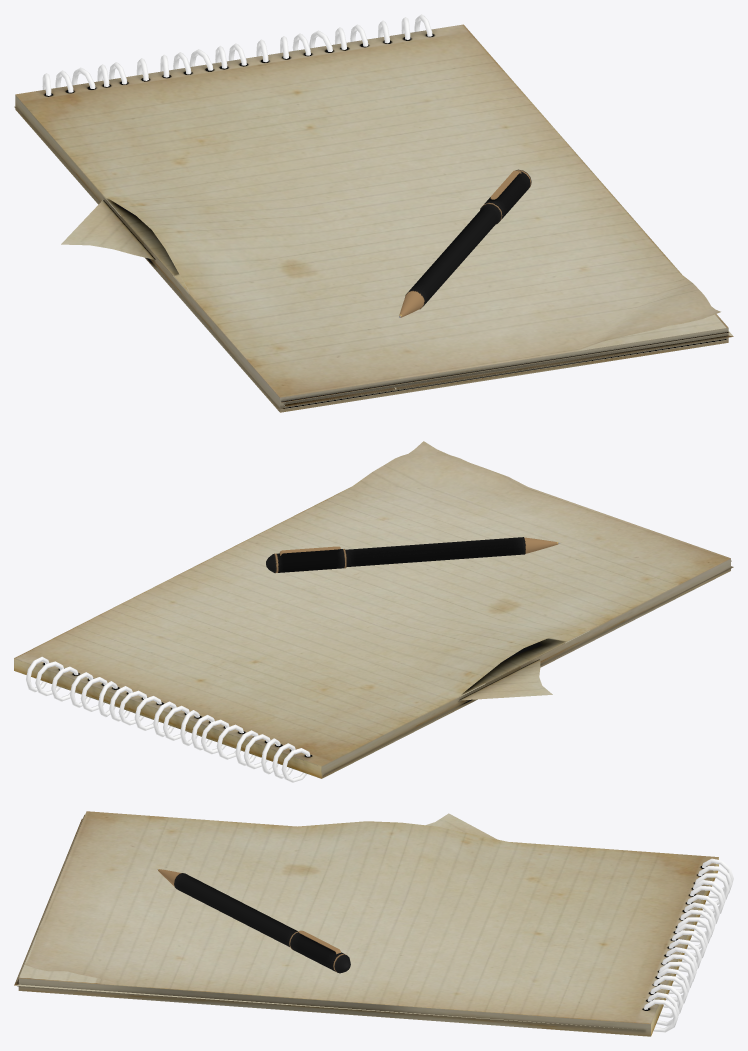
The model's file is pen.glb.
The picture shows the model from 3 angles, top to bottom: view 1: azimuth 30°, elevation 25°; view 2: azimuth 150°, elevation 25°; view 3: azimuth 270°, elevation 25°; orthographic projection. The views are drawn at different scales.
Parts seen in each view (by area): view 1: NotePad, Pen; view 2: NotePad, Pen; view 3: NotePad, Pen.
Boxes of the visible parts, x1,y1,x2,y2 form: NotePad: [14, 14, 733, 412]; Pen: [399, 169, 531, 317]; NotePad: [14, 441, 733, 782]; Pen: [266, 537, 560, 573]; NotePad: [14, 811, 733, 1036]; Pen: [157, 869, 350, 973].
Size of the model in its own units: 0.2529 by 0.0228 by 0.3591.
1 material, 1 textured.
